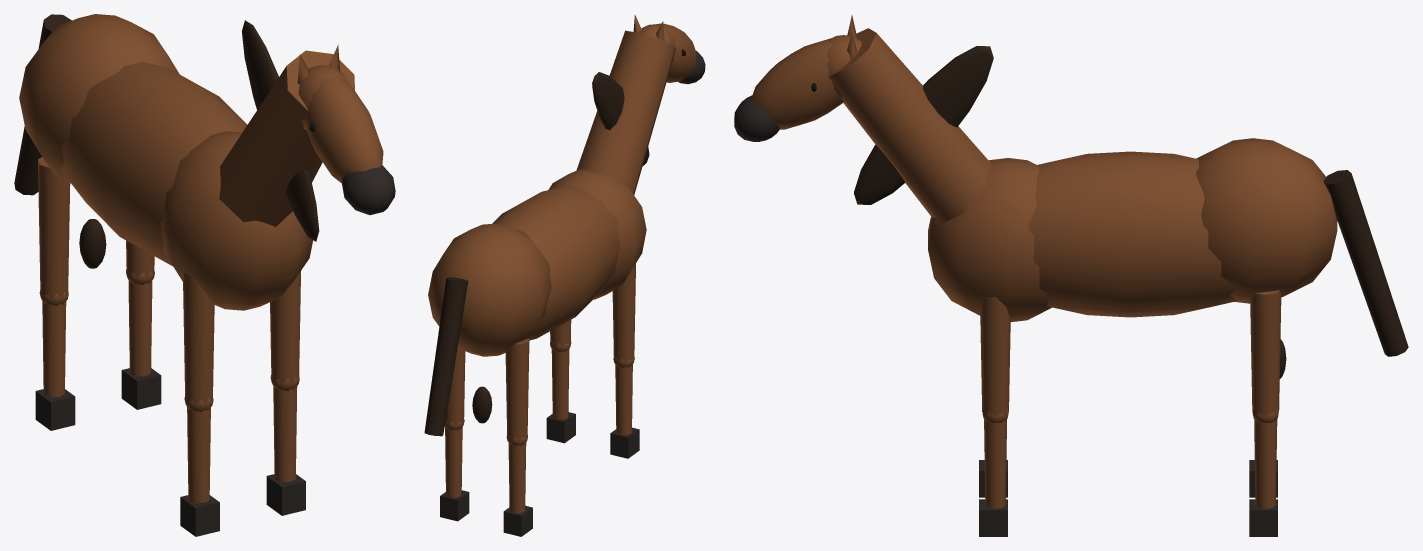
Rendered from caballo.glb.
3 views of the same model, side by side, from view 1: azimuth 30°, elevation 25°; view 2: azimuth 150°, elevation 25°; view 3: azimuth 270°, elevation 25° (orthographic). The views are drawn at different scales.
Parts seen in each view (by area): view 1: caballo, object 6, object 3, object 12, object 9, object 4, object 7, object 10, object 13; view 2: caballo, object 6, object 9, object 12, object 3, object 7, object 13, object 10, object 4; view 3: caballo, object 6, object 12, object 7, object 13.
Boxes of the visible parts, bbox=[...] form: caballo: bbox=[14, 14, 395, 405]; object 6: bbox=[128, 280, 152, 376]; object 3: bbox=[42, 301, 66, 397]; object 12: bbox=[273, 386, 297, 482]; object 9: bbox=[187, 407, 210, 503]; object 4: bbox=[35, 389, 75, 430]; object 7: bbox=[121, 368, 161, 409]; object 10: bbox=[180, 495, 219, 536]; object 13: bbox=[266, 474, 305, 515]; caballo: bbox=[424, 15, 705, 440]; object 6: bbox=[445, 427, 462, 497]; object 9: bbox=[615, 364, 632, 435]; object 12: bbox=[551, 349, 569, 419]; object 3: bbox=[508, 443, 526, 513]; object 7: bbox=[440, 490, 469, 521]; object 13: bbox=[546, 412, 575, 443]; object 10: bbox=[610, 427, 639, 458]; object 4: bbox=[503, 505, 532, 536]; caballo: bbox=[734, 15, 1408, 416]; object 6: bbox=[1254, 419, 1277, 508]; object 12: bbox=[984, 419, 1006, 508]; object 7: bbox=[1249, 499, 1277, 536]; object 13: bbox=[979, 499, 1007, 536].
Bounding box in the file's own units: 0.72 × 2.56 × 3.2.
